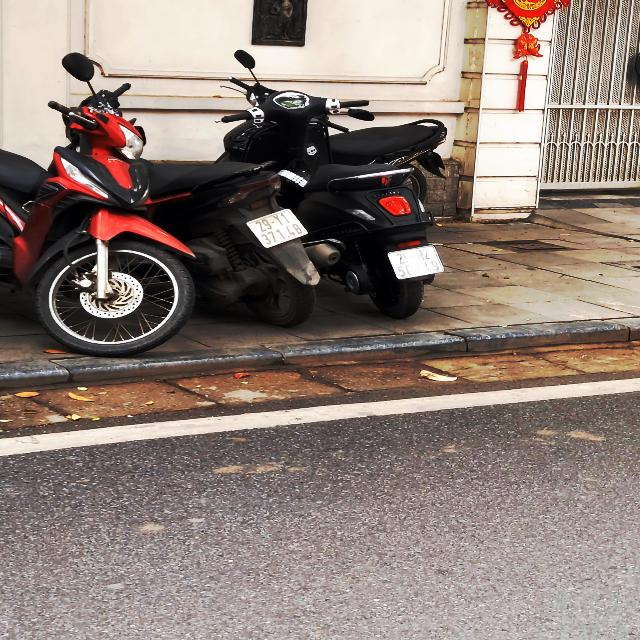license_plate: (243, 207, 313, 252), (385, 244, 448, 283)
